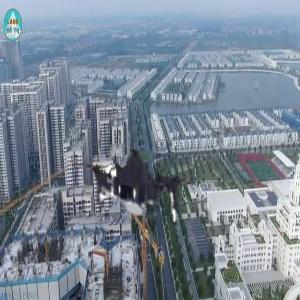drone: (69, 119, 204, 254)
